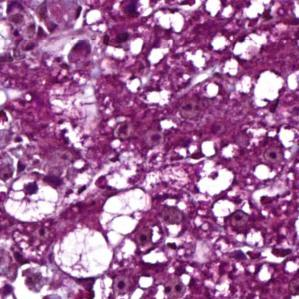ballooning: (50, 224, 115, 280), (97, 186, 152, 247), (4, 172, 60, 223)
